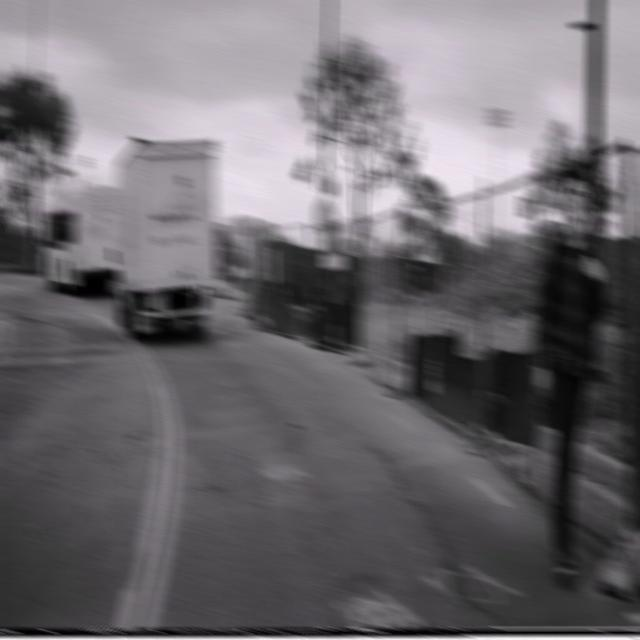stop_sign: (313, 197, 338, 237)
